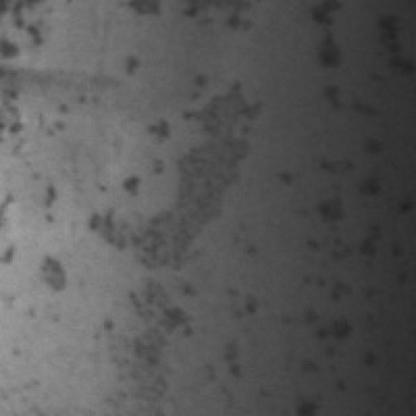pitted_surface: (252, 81, 410, 410), (90, 40, 262, 268), (85, 256, 254, 395), (0, 0, 71, 314)
